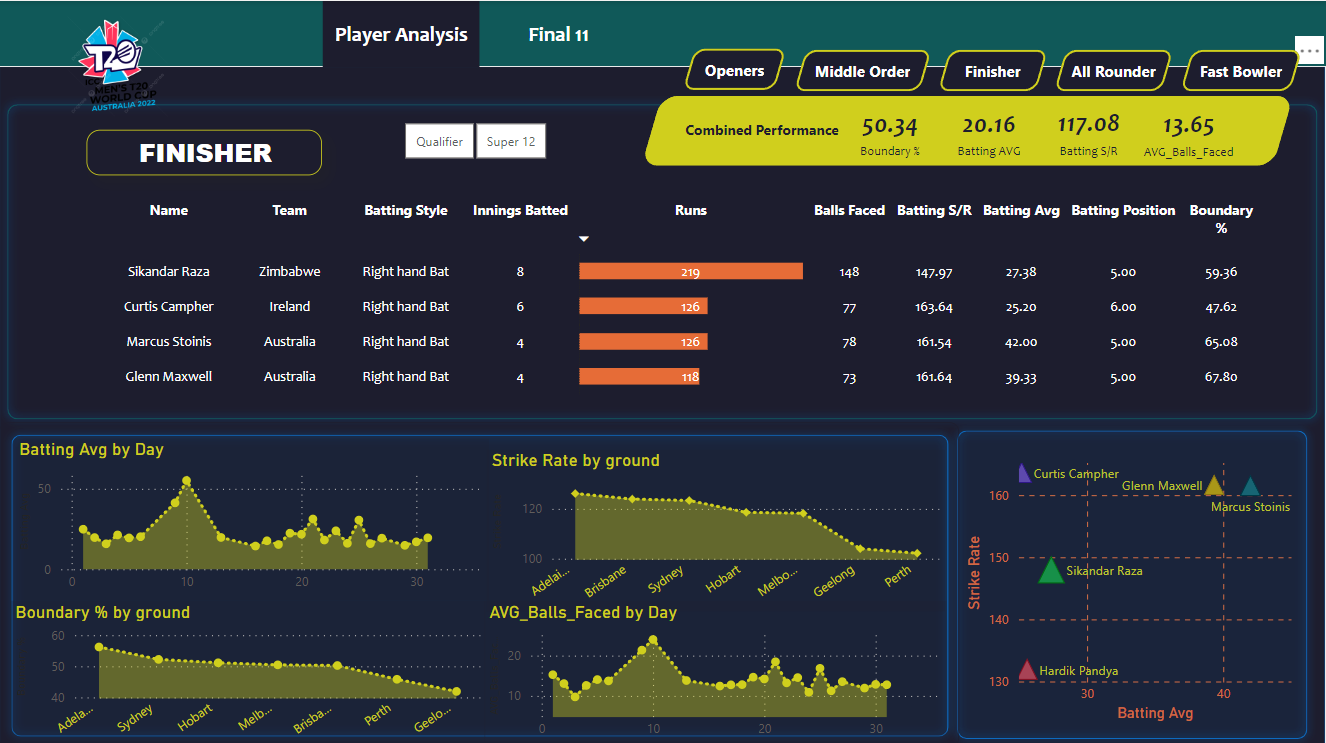

Layout of this report page (visuals, bound fields, positions):
{"tool":"powerbi","page":{"name":"MIDDLE ORDER","canvas":[1280,720],"ordinal":1},"visuals":[{"type":"shape","box":[0,62.5,1280,657.5],"z":0},{"type":"shape","box":[0,91.2,1280,320],"z":1000},{"type":"tableEx","fields":{"Values":["player_info.name","player_info.team","player_info.battingStyle","Key_Measures.Total Innings Batted","Key_Measures.Total Runs","Key_Measures.total balls faced","Key_Measures.Strike Rate","Key_Measures.Batting Avg","Key_Measures.Batting Position","Key_Measures.Boundary %"]},"box":[77.5,166.2,1136.2,240],"z":2000},{"type":"scatterChart","fields":{"Category":["player_info.name"],"X":["Key_Measures.Batting Avg"],"Y":["Key_Measures.Strike Rate"],"Series":["player_info.name"],"Size":["Key_Measures.Total Runs"]},"box":[927.5,432.5,331.2,267.5],"z":3000},{"type":"shape","box":[916.2,406.2,353.8,313.8],"z":4000},{"type":"shape","box":[620,91.2,628.8,67.5],"z":5000},{"type":"card","fields":{"Values":["Key_Measures.Batting Avg"]},"box":[885.6,91.6,140,67.5],"z":6000},{"type":"card","fields":{"Values":["Key_Measures.Strike Rate"]},"box":[985.3,92.2,132.5,66.2],"z":7000},{"type":"card","fields":{"Values":["Key_Measures.Boundary %"]},"box":[793.4,91.6,132.5,67.5],"z":8000},{"type":"card","fields":{"Values":["Key_Measures.AVG_Balls_Faced"]},"box":[1081.2,92.5,132.5,66.2],"z":9000},{"type":"shape","box":[637.5,102.5,196.2,43.8],"z":10000},{"type":"shape","box":[0,406.2,926.2,313.8],"z":11000},{"type":"actionButton","box":[660,46.2,100,40],"z":12000},{"type":"actionButton","box":[766.6,46.6,132.5,40],"z":13000},{"type":"actionButton","box":[905.6,46.9,106.2,40],"z":14000},{"type":"actionButton","box":[1018.4,47.2,115,40],"z":15000},{"type":"actionButton","box":[1140,47.5,117.5,40],"z":16000},{"type":"slicer","fields":{"Values":["match_summary.Stage"]},"box":[365,111.2,186.2,47.5],"z":17000},{"type":"areaChart","fields":{"Y":["Key_Measures.Batting Avg"],"Category":["match_summary.matchDate.Variation.Date Hierarchy.Day"]},"box":[15,422.5,458.8,156.2],"z":18000},{"type":"areaChart","fields":{"Y":["Key_Measures.Strike Rate"],"Category":["match_summary.ground"]},"box":[470,432.5,442.5,156.2],"z":19000},{"type":"areaChart","fields":{"Y":["Key_Measures.Boundary %"],"Category":["match_summary.ground"]},"box":[11.2,578.8,458.8,141.2],"z":20000},{"type":"areaChart","fields":{"Y":["Key_Measures.AVG_Balls_Faced"],"Category":["match_summary.matchDate.Variation.Date Hierarchy.Day"]},"box":[467.5,578.8,446.2,141.2],"z":21000},{"type":"image","box":[58.8,0,111.2,126.2],"z":22000},{"type":"textbox","title":"MIDDLE ORDER","box":[95,126.2,227.5,43.8],"z":23000},{"type":"image","box":[0,111.2,137.5,123.8],"z":24000},{"type":"actionButton","title":"Player Analysis","box":[312.5,0,151.2,63.8],"z":25000},{"type":"actionButton","title":"Player Analysis","box":[463.8,0,151.2,62.5],"z":26000}]}

Visuals, with their boxes in screenshot pixels (x1, y1, x2, y2), scaled from the page's 1280x720 canvas onto the 1326x743 screenshot:
shape: bbox(0, 64, 1325, 742)
shape: bbox(0, 94, 1325, 424)
tableEx - player_info.name x player_info.team: bbox(80, 172, 1257, 419)
scatterChart - player_info.name x Key_Measures.Batting Avg: bbox(961, 446, 1304, 722)
shape: bbox(949, 419, 1316, 742)
shape: bbox(642, 94, 1294, 164)
card - Key_Measures.Batting Avg: bbox(917, 95, 1062, 164)
card - Key_Measures.Strike Rate: bbox(1021, 95, 1158, 163)
card - Key_Measures.Boundary %: bbox(822, 95, 959, 164)
card - Key_Measures.AVG_Balls_Faced: bbox(1120, 95, 1257, 164)
shape: bbox(660, 106, 864, 151)
shape: bbox(0, 419, 959, 742)
actionButton: bbox(684, 48, 787, 89)
actionButton: bbox(794, 48, 931, 89)
actionButton: bbox(938, 48, 1048, 90)
actionButton: bbox(1055, 49, 1174, 90)
actionButton: bbox(1181, 49, 1303, 90)
slicer - match_summary.Stage: bbox(378, 115, 571, 164)
areaChart - Key_Measures.Batting Avg x match_summary.matchDate.Variation.Date Hierarchy.Day: bbox(16, 436, 491, 597)
areaChart - Key_Measures.Strike Rate x match_summary.ground: bbox(487, 446, 945, 608)
areaChart - Key_Measures.Boundary % x match_summary.ground: bbox(12, 597, 487, 742)
areaChart - Key_Measures.AVG_Balls_Faced x match_summary.matchDate.Variation.Date Hierarchy.Day: bbox(484, 597, 947, 742)
image: bbox(61, 0, 176, 130)
"MIDDLE ORDER" textbox: bbox(98, 130, 334, 175)
image: bbox(0, 115, 142, 243)
"Player Analysis" actionButton: bbox(324, 0, 480, 66)
"Player Analysis" actionButton: bbox(480, 0, 637, 64)
